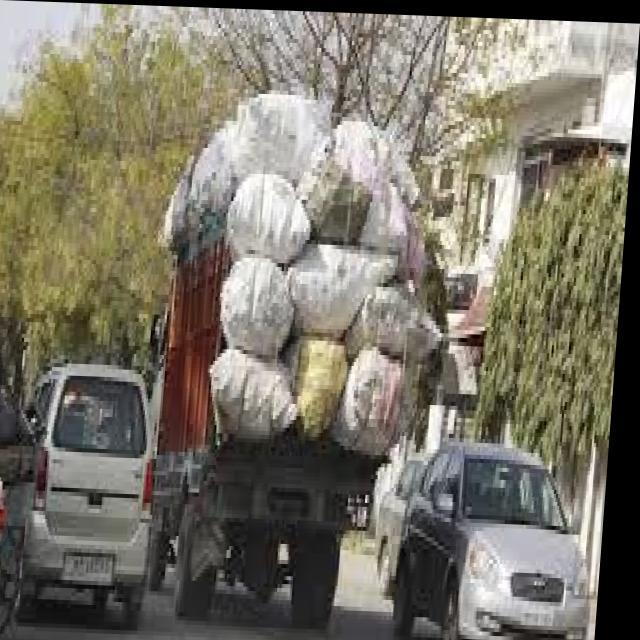uncovered: (152, 90, 436, 612)
